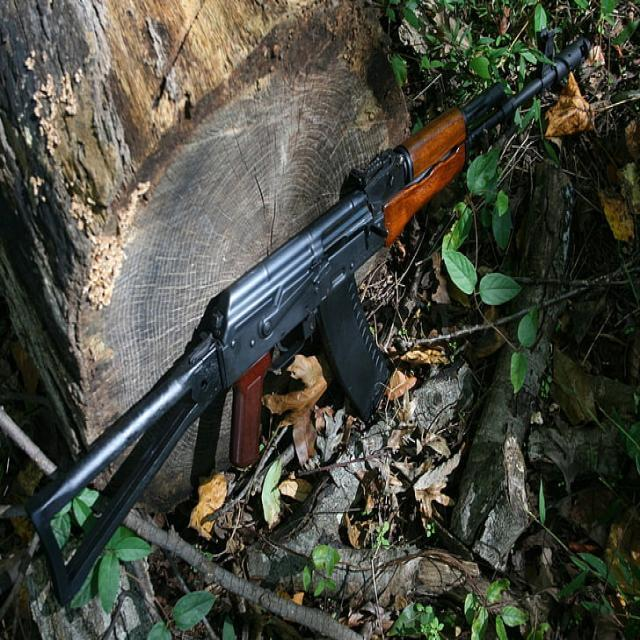weapon: (25, 28, 592, 608)
